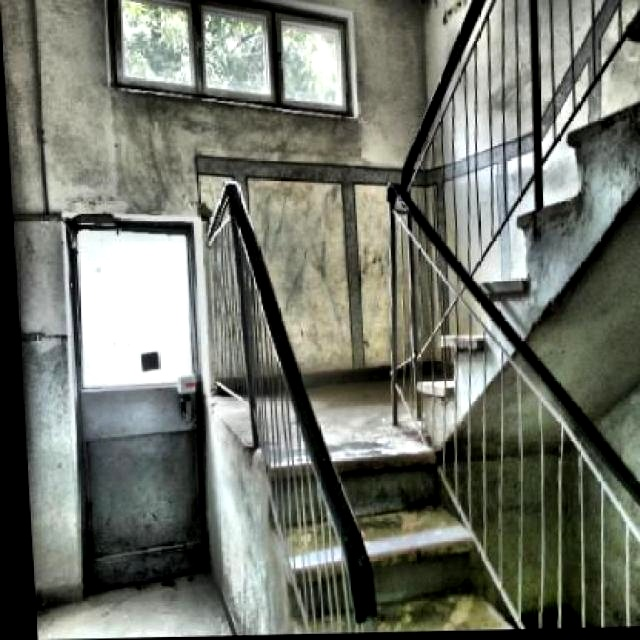stair: (265, 421, 517, 635)
